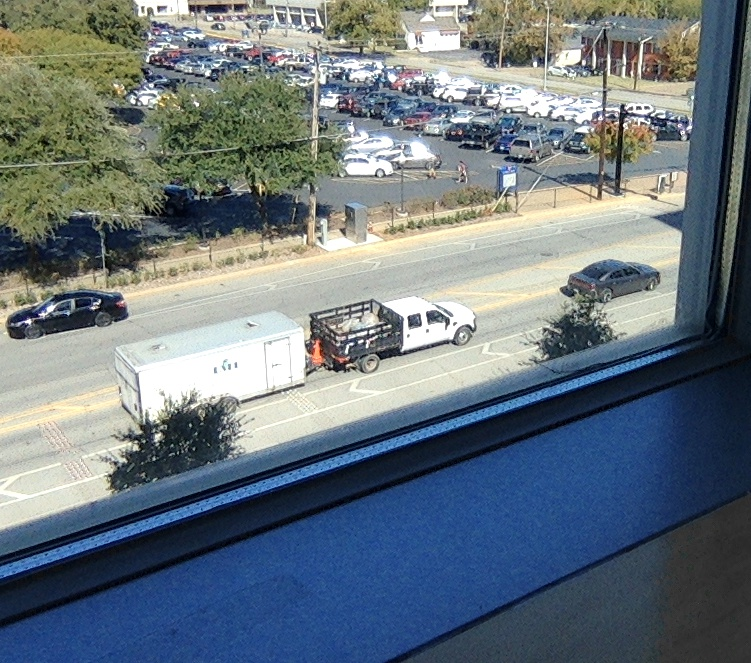car: (300, 300, 451, 381)
